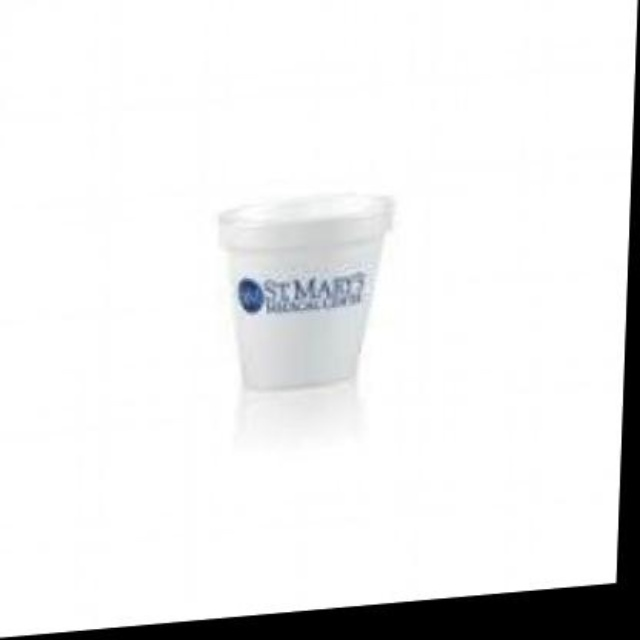trash: (220, 194, 392, 388)
